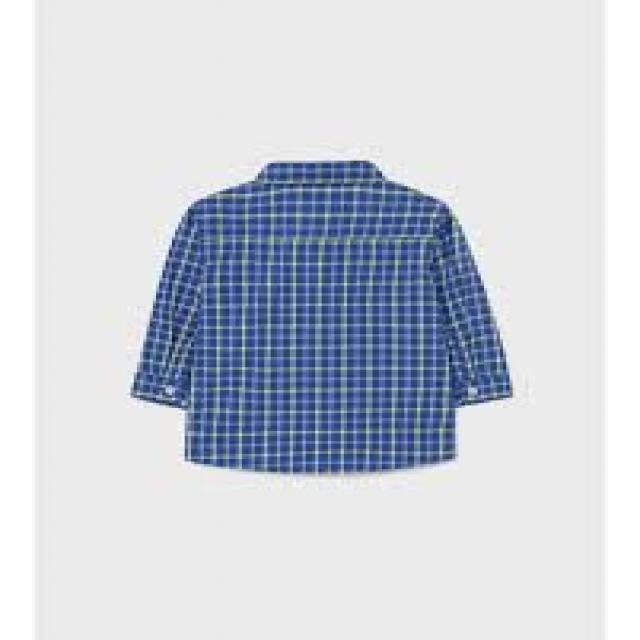plaid: (136, 147, 538, 530)
